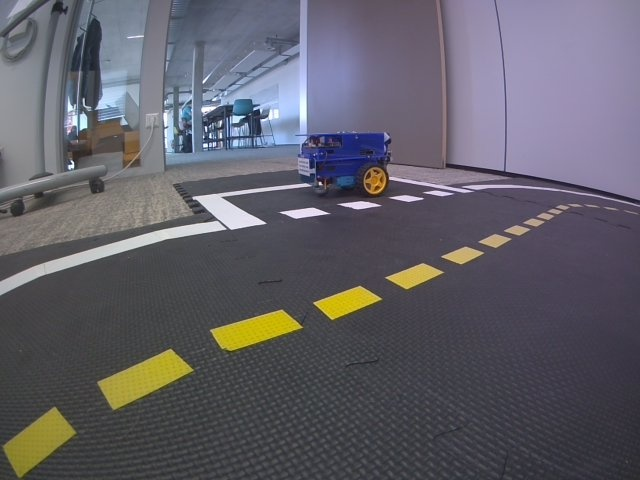Bot: (297, 130, 393, 196)
occupiedSlot: (193, 174, 470, 231)
